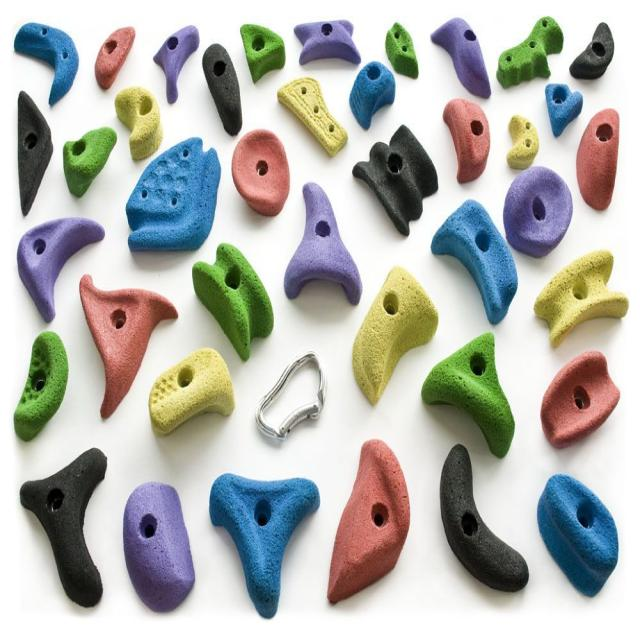hold: (209, 473, 320, 618), (79, 274, 179, 419), (20, 448, 107, 608), (327, 439, 410, 603), (439, 444, 530, 592), (352, 265, 439, 405), (421, 331, 515, 458), (431, 199, 518, 325), (126, 137, 221, 251), (537, 474, 619, 598), (352, 124, 438, 237), (192, 242, 274, 360), (533, 249, 629, 349), (284, 182, 362, 305), (123, 482, 195, 611), (17, 217, 105, 322), (540, 350, 620, 450), (148, 347, 236, 437), (503, 166, 572, 257), (14, 330, 69, 443), (277, 77, 348, 157), (14, 22, 79, 107), (231, 129, 290, 217), (430, 17, 492, 97), (496, 16, 564, 88), (18, 90, 54, 217), (576, 109, 620, 210), (442, 98, 490, 184), (63, 126, 118, 198), (114, 85, 164, 160), (202, 43, 242, 136), (153, 25, 200, 103), (293, 19, 361, 65), (349, 62, 395, 129), (240, 24, 286, 85), (94, 26, 136, 90), (569, 22, 615, 80), (545, 84, 583, 138), (385, 22, 419, 79), (506, 114, 539, 169)
